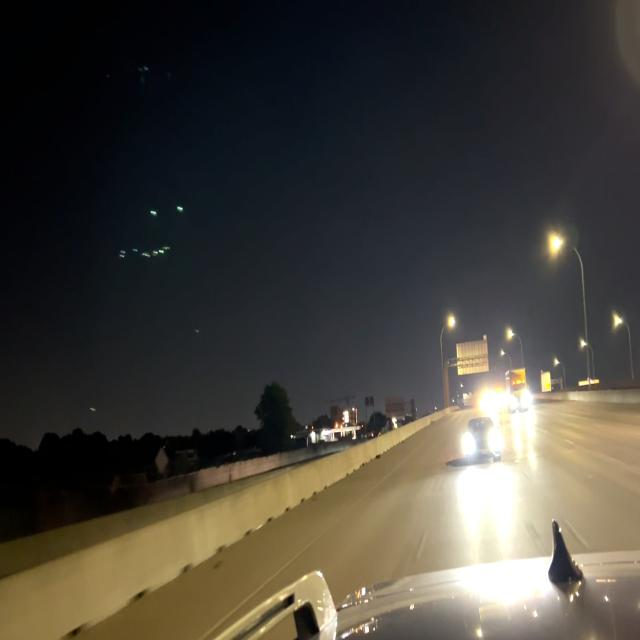back-of-sign: (455, 333, 490, 378), (384, 392, 406, 417)
